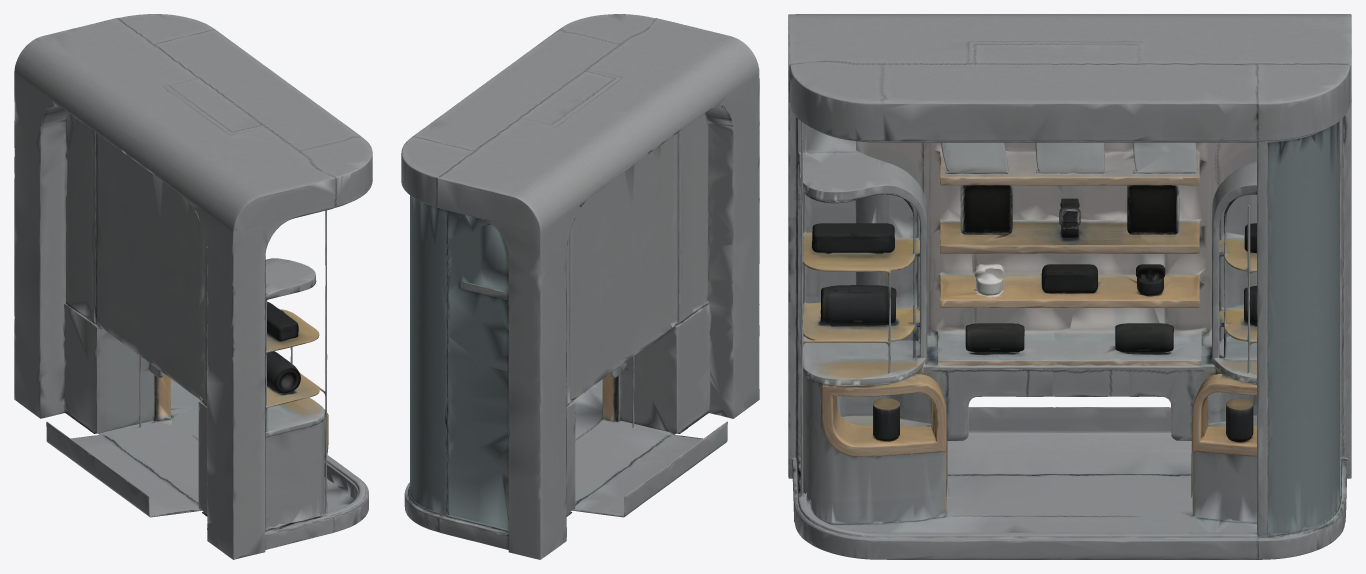
File: frontclw.glb
3 views of the same model, side by side, from view 1: azimuth 30°, elevation 25°; view 2: azimuth 150°, elevation 25°; view 3: azimuth 270°, elevation 25° (orthographic). The views are drawn at different scales.
Parts seen in each view (by area): view 1: tripo_node_e9c7b41d-e00e-47ac-931f-928e804d7f1a; view 2: tripo_node_e9c7b41d-e00e-47ac-931f-928e804d7f1a; view 3: tripo_node_e9c7b41d-e00e-47ac-931f-928e804d7f1a.
Part boxes in pixels (box(x1,y1,x2,y2)): tripo_node_e9c7b41d-e00e-47ac-931f-928e804d7f1a: box(14, 14, 372, 559); tripo_node_e9c7b41d-e00e-47ac-931f-928e804d7f1a: box(401, 14, 759, 559); tripo_node_e9c7b41d-e00e-47ac-931f-928e804d7f1a: box(788, 14, 1351, 559).
Size of the model in its own units: 1.01 by 1.8 by 2.
Materials: 1 (1 with a texture image).
